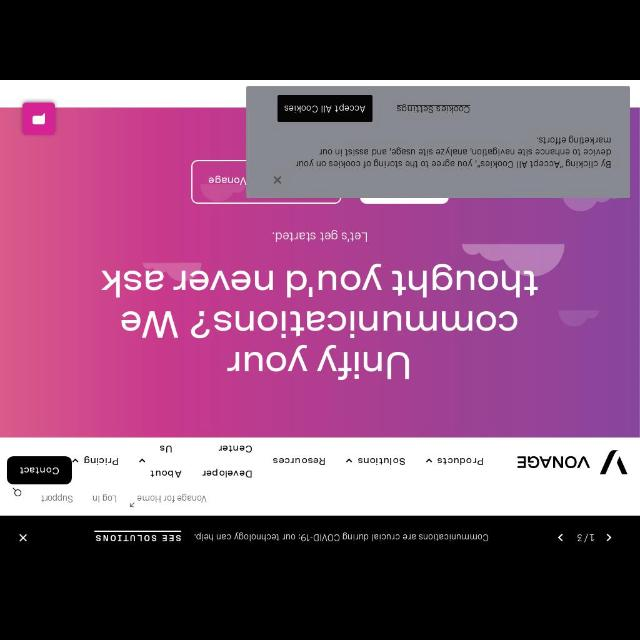backgroundimage: (0, 107, 638, 437)
button: (22, 102, 56, 134)
icon: (32, 113, 46, 125), (272, 174, 284, 186), (12, 488, 22, 497), (18, 534, 28, 542), (72, 457, 80, 463), (138, 458, 146, 464), (606, 534, 612, 542), (558, 534, 564, 542), (345, 458, 353, 462), (425, 458, 433, 462), (130, 502, 134, 508)
image: (516, 448, 628, 476)
panel: (245, 86, 630, 196), (2, 515, 640, 559)
spinner: (424, 458, 484, 468), (344, 458, 408, 467), (72, 454, 118, 466)
text: (99, 261, 538, 381), (295, 134, 613, 170), (195, 531, 490, 543), (272, 228, 371, 244), (396, 103, 472, 113), (284, 105, 366, 114), (137, 493, 207, 503), (96, 535, 182, 543), (202, 468, 254, 480), (272, 456, 326, 466), (208, 174, 246, 186), (358, 458, 408, 467), (438, 458, 484, 467), (20, 466, 60, 476), (84, 455, 118, 465), (41, 493, 74, 502), (150, 469, 182, 478), (218, 445, 254, 453), (92, 492, 116, 503), (576, 534, 596, 544), (160, 446, 172, 452)
textbutton: (278, 94, 372, 122), (6, 456, 72, 484)
toolbar: (1, 438, 639, 516)
